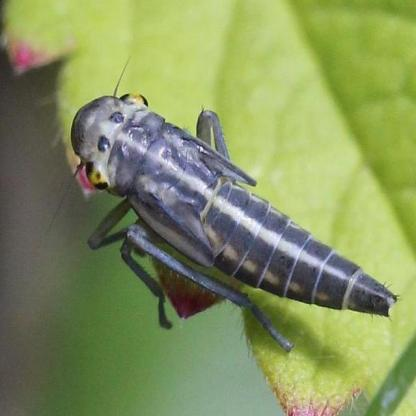Green-Leafhopper: (76, 56, 402, 338)
